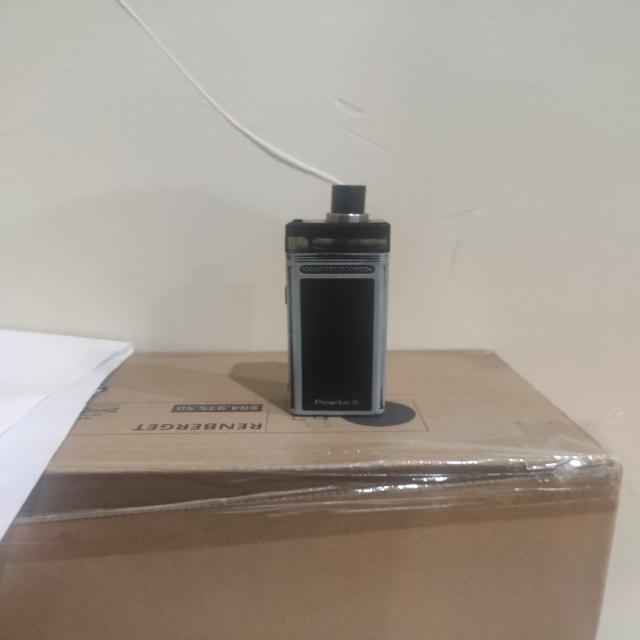cigaret: (283, 184, 392, 420)
